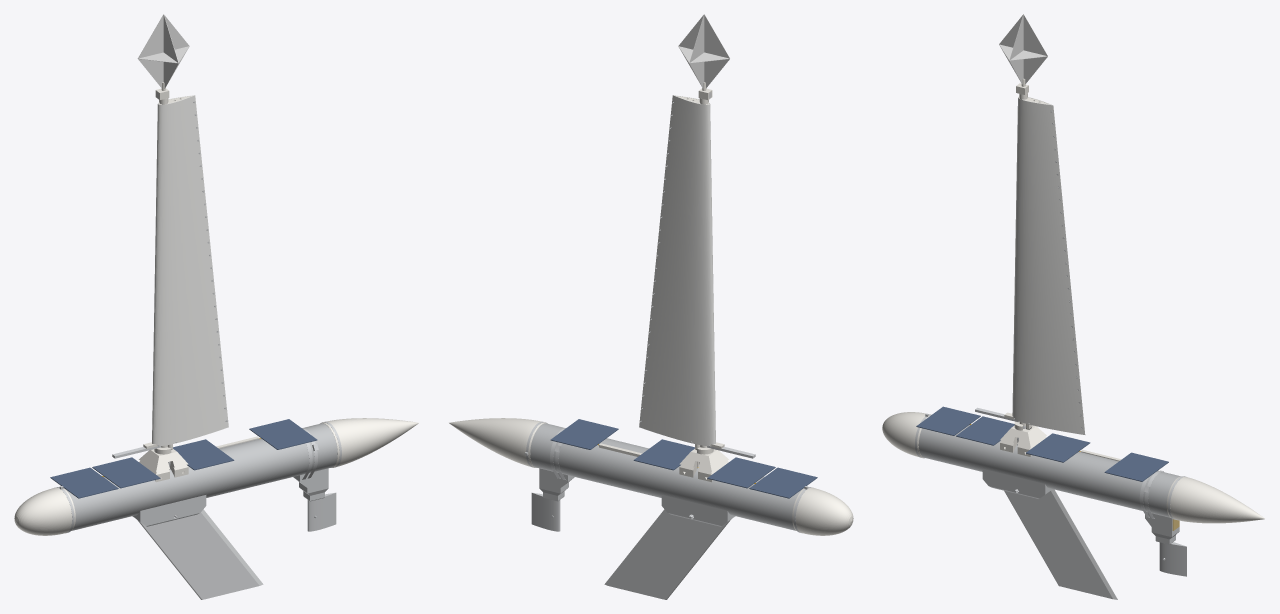
The model's file is boat.glb.
3 renders of one model, left to right at view 1: azimuth 30°, elevation 25°; view 2: azimuth 150°, elevation 25°; view 3: azimuth 330°, elevation 25°, orthographic. The views are drawn at different scales.
Visible parts, largest first — view 1: skin_starboard, pipe, fin_plate, cone_stern, cone_bow, radar_reflector, fin_mount, panel_4, panel_1, panel_2, panel_3, socket_saddle (+2 smaller); view 2: skin_port, pipe, fin_plate, cone_stern, cone_bow, radar_reflector, fin_mount, panel_4, panel_1, panel_2, panel_3, socket_saddle (+2 smaller); view 3: skin_starboard, pipe, fin_plate, cone_stern, radar_reflector, cone_bow, fin_mount, panel_1, panel_4, panel_3, panel_2, socket_saddle (+2 smaller).
Part boxes in pixels (x1,y1,x2,y2): skin_starboard: (152,95,228,446); pipe: (64,423,337,530); fin_plate: (137,509,263,599); cone_stern: (321,418,418,467); cone_bow: (14,487,75,535); radar_reflector: (137,14,189,88); fin_mount: (132,495,206,526); panel_4: (249,419,317,449); panel_1: (50,467,118,498); panel_2: (92,457,160,488); panel_3: (173,439,234,470); socket_saddle: (139,449,188,482); skin_port: (639,95,715,446); pipe: (530,423,803,530); fin_plate: (604,509,730,599); cone_stern: (449,418,546,467); cone_bow: (792,487,853,535); radar_reflector: (678,14,730,88); fin_mount: (661,495,735,526); panel_4: (550,419,618,449); panel_1: (749,467,817,498); panel_2: (707,457,775,488); panel_3: (633,439,694,470); socket_saddle: (679,449,728,482); skin_starboard: (1012,97,1085,434); pipe: (918,425,1180,517); fin_plate: (1004,489,1117,599); cone_stern: (1166,476,1264,523); radar_reflector: (999,14,1047,84); cone_bow: (882,412,930,457); fin_mount: (982,469,1052,498); panel_1: (916,406,980,435); panel_4: (1104,452,1168,481); panel_3: (1025,433,1090,462); panel_2: (956,416,1014,445); socket_saddle: (1000,425,1046,456).
Bounding box in the file's own units: 2254 × 3175 × 290.
